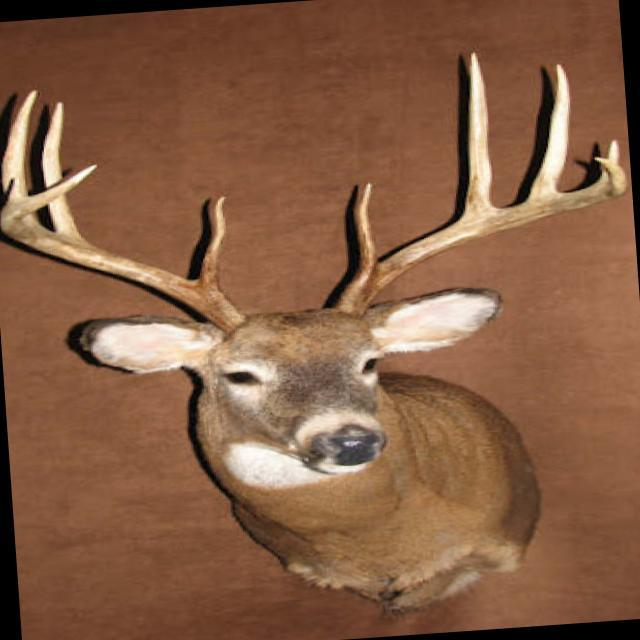E1: (0, 176, 19, 208)
L-F: (329, 157, 629, 319)
L-G1: (356, 181, 378, 270)
L-G2: (462, 50, 495, 216)
L-G3: (527, 63, 571, 199)
R-F: (0, 164, 246, 334)
R-G1: (197, 195, 228, 290)
